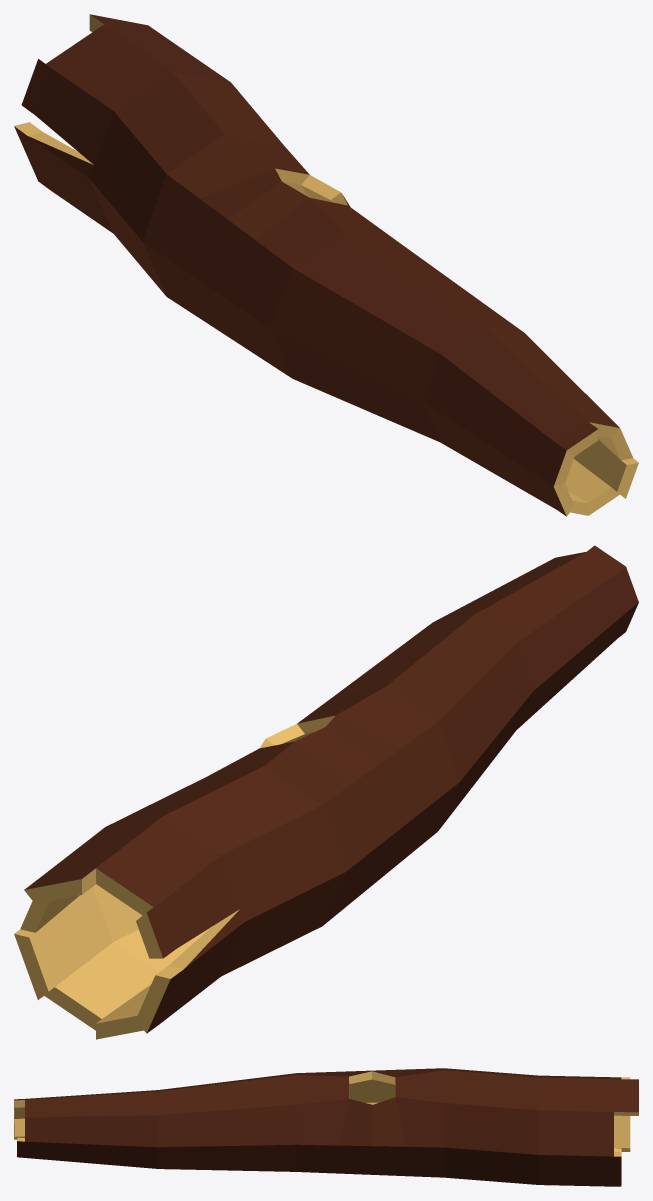
The model's file is TreeLog.fbx.
The picture shows the model from 3 angles, top to bottom: view 1: azimuth 30°, elevation 25°; view 2: azimuth 150°, elevation 25°; view 3: azimuth 270°, elevation 25°; orthographic projection. The views are drawn at different scales.
Visible parts, largest first — view 1: Circle; view 2: Circle; view 3: Circle.
Part boxes in pixels (x1=…): Circle: x1=14, y1=14, x2=638, y2=516; Circle: x1=14, y1=545, x2=638, y2=1039; Circle: x1=14, y1=1068, x2=638, y2=1186.
Size of the model in its own units: 230 by 203 by 1073.
